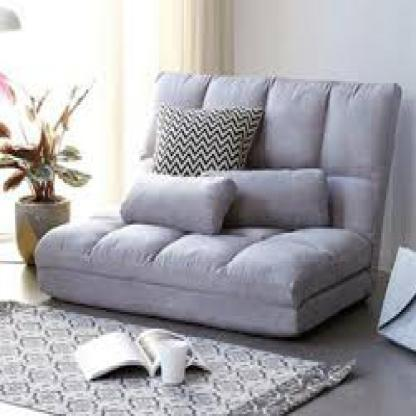sofa: (38, 81, 414, 335)
